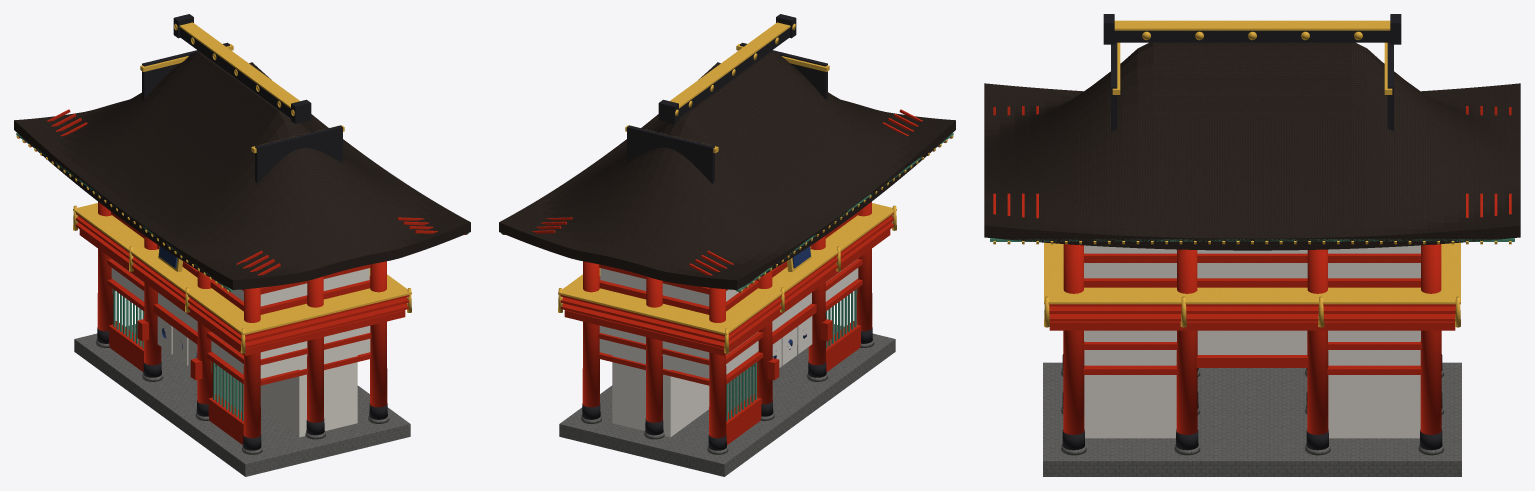
The model's file is Asset_04_Romon_Gate_1589.glb.
3 renders of one model, left to right at view 1: azimuth 30°, elevation 25°; view 2: azimuth 150°, elevation 25°; view 3: azimuth 270°, elevation 25°, orthographic. The views are drawn at different scales.
Visible parts, largest first — view 1: Z01_Romon_Roof, Z01_Romon_Podium, Z01_Romon_Balcony_GoldTrim, Z01_Romon_Alcove_BackWall_-1, Z01_Romon_Balcony_Rail_6.65, Z01_Romon_Balcony_Deck, Z01_Romon_Balcony_Rail_6.90, Z01_Romon_Roof_Gable_Pediment_-1, Z01_Romon_Col_0_0, Z01_Romon_Col_2_0, Z01_Romon_Col_1_0, Z01_Romon_Roof_Ridge_Gold_Cap (+14 smaller); view 2: Z01_Romon_Roof, Z01_Romon_Podium, Z01_Romon_Balcony_GoldTrim, Z01_Romon_Alcove_BackWall_1, Z01_Romon_Balcony_Rail_6.65, Z01_Romon_Balcony_Deck, Z01_Romon_Balcony_Rail_6.90, Z01_Romon_Shikku1_1, Z01_Romon_Roof_Gable_Pediment_1, Z01_Romon_Col_0_3, Z01_Romon_Col_2_3, Z01_Romon_Col_1_3 (+14 smaller); view 3: Z01_Romon_Roof, Z01_Romon_Podium, Z01_Romon_Balcony_GoldTrim, Z01_Romon_Upper_Shikku, Z01_Romon_Alcove_BackWall_1, Z01_Romon_Alcove_BackWall_-1, Z01_Romon_Balcony_Deck, Z01_Romon_Roof_Ridge_Beam, Z01_Romon_Col_2_0, Z01_Romon_Col_2_3, Z01_Romon_Balcony_Rail_6.90, Z01_Romon_Balcony_Rail_6.65 (+17 smaller).
Boxes of the visible parts, <box> form: Z01_Romon_Roof: <box>14,51,470,289</box>; Z01_Romon_Podium: <box>74,324,410,476</box>; Z01_Romon_Balcony_GoldTrim: <box>73,203,411,335</box>; Z01_Romon_Alcove_BackWall_-1: <box>260,328,357,437</box>; Z01_Romon_Balcony_Rail_6.65: <box>76,222,408,348</box>; Z01_Romon_Balcony_Deck: <box>79,230,405,355</box>; Z01_Romon_Balcony_Rail_6.90: <box>76,216,409,342</box>; Z01_Romon_Roof_Gable_Pediment_-1: <box>255,125,342,183</box>; Z01_Romon_Col_0_0: <box>243,287,260,438</box>; Z01_Romon_Col_2_0: <box>370,261,387,407</box>; Z01_Romon_Col_1_0: <box>307,276,323,422</box>; Z01_Romon_Roof_Ridge_Gold_Cap: <box>179,22,299,108</box>; Z01_Romon_Roof: <box>499,51,955,289</box>; Z01_Romon_Podium: <box>559,324,895,476</box>; Z01_Romon_Balcony_GoldTrim: <box>558,203,896,335</box>; Z01_Romon_Alcove_BackWall_1: <box>612,329,709,437</box>; Z01_Romon_Balcony_Rail_6.65: <box>561,222,893,348</box>; Z01_Romon_Balcony_Deck: <box>564,230,890,355</box>; Z01_Romon_Balcony_Rail_6.90: <box>560,216,893,342</box>; Z01_Romon_Shikku1_1: <box>599,325,758,378</box>; Z01_Romon_Roof_Gable_Pediment_1: <box>627,125,714,183</box>; Z01_Romon_Col_0_3: <box>709,287,726,438</box>; Z01_Romon_Col_2_3: <box>582,261,599,407</box>; Z01_Romon_Col_1_3: <box>646,276,662,422</box>; Z01_Romon_Roof: <box>984,42,1520,250</box>; Z01_Romon_Podium: <box>1043,362,1461,476</box>; Z01_Romon_Balcony_GoldTrim: <box>1044,242,1460,304</box>; Z01_Romon_Upper_Shikku: <box>1084,245,1420,278</box>; Z01_Romon_Alcove_BackWall_1: <box>1328,375,1420,438</box>; Z01_Romon_Alcove_BackWall_-1: <box>1084,375,1176,438</box>; Z01_Romon_Balcony_Deck: <box>1049,321,1455,330</box>; Z01_Romon_Roof_Ridge_Beam: <box>1114,30,1390,42</box>; Z01_Romon_Col_2_0: <box>1063,244,1084,434</box>; Z01_Romon_Col_2_3: <box>1420,244,1441,434</box>; Z01_Romon_Balcony_Rail_6.90: <box>1049,306,1455,313</box>; Z01_Romon_Balcony_Rail_6.65: <box>1049,314,1455,321</box>.
Size of the model in its own units: 9.9 by 13.13 by 15.6.
9 materials, 4 textured.
